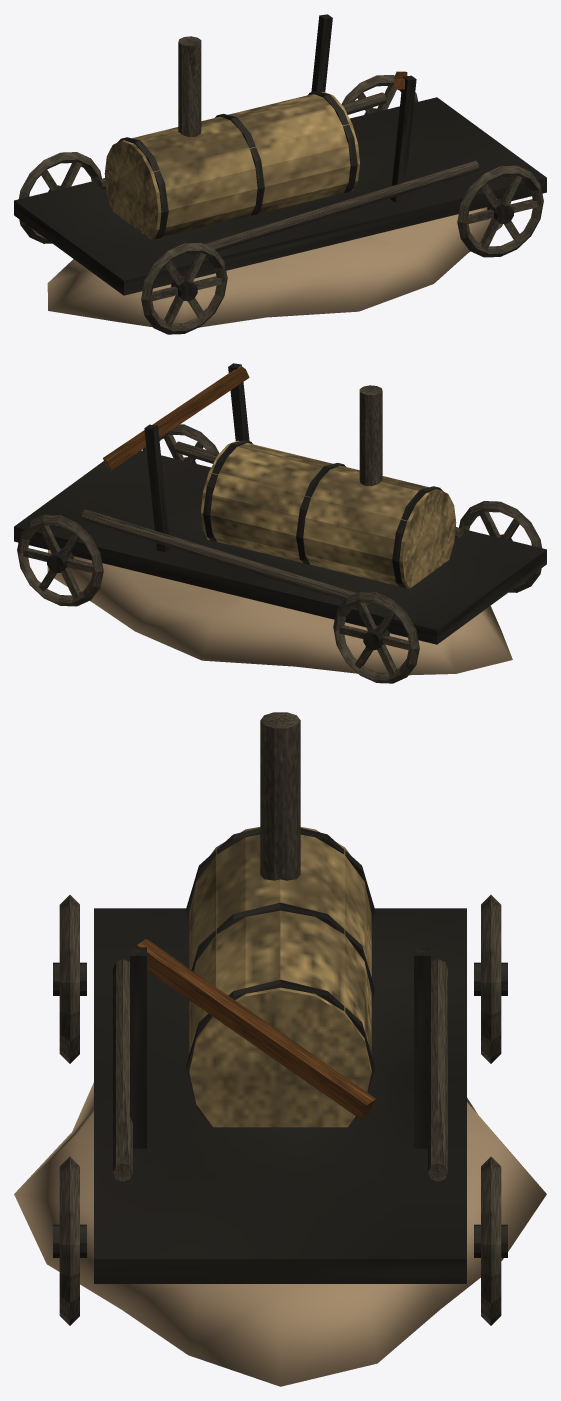
Rendered from flivver-row-west-b.glb.
3 renders of one model, top to bottom at view 1: azimuth 30°, elevation 25°; view 2: azimuth 150°, elevation 25°; view 3: azimuth 270°, elevation 25°, orthographic. The views are drawn at different scales.
Visible parts, largest first — view 1: flivver-row-west-b; view 2: flivver-row-west-b; view 3: flivver-row-west-b.
Part boxes in pixels (box(x1,y1,x2,y2)): flivver-row-west-b: box(14, 14, 546, 334); flivver-row-west-b: box(14, 363, 546, 683); flivver-row-west-b: box(14, 712, 546, 1386).
Bounding box in the file's own units: 5.9 × 2.85 × 3.45.
Materials: 2 (1 with a texture image).
